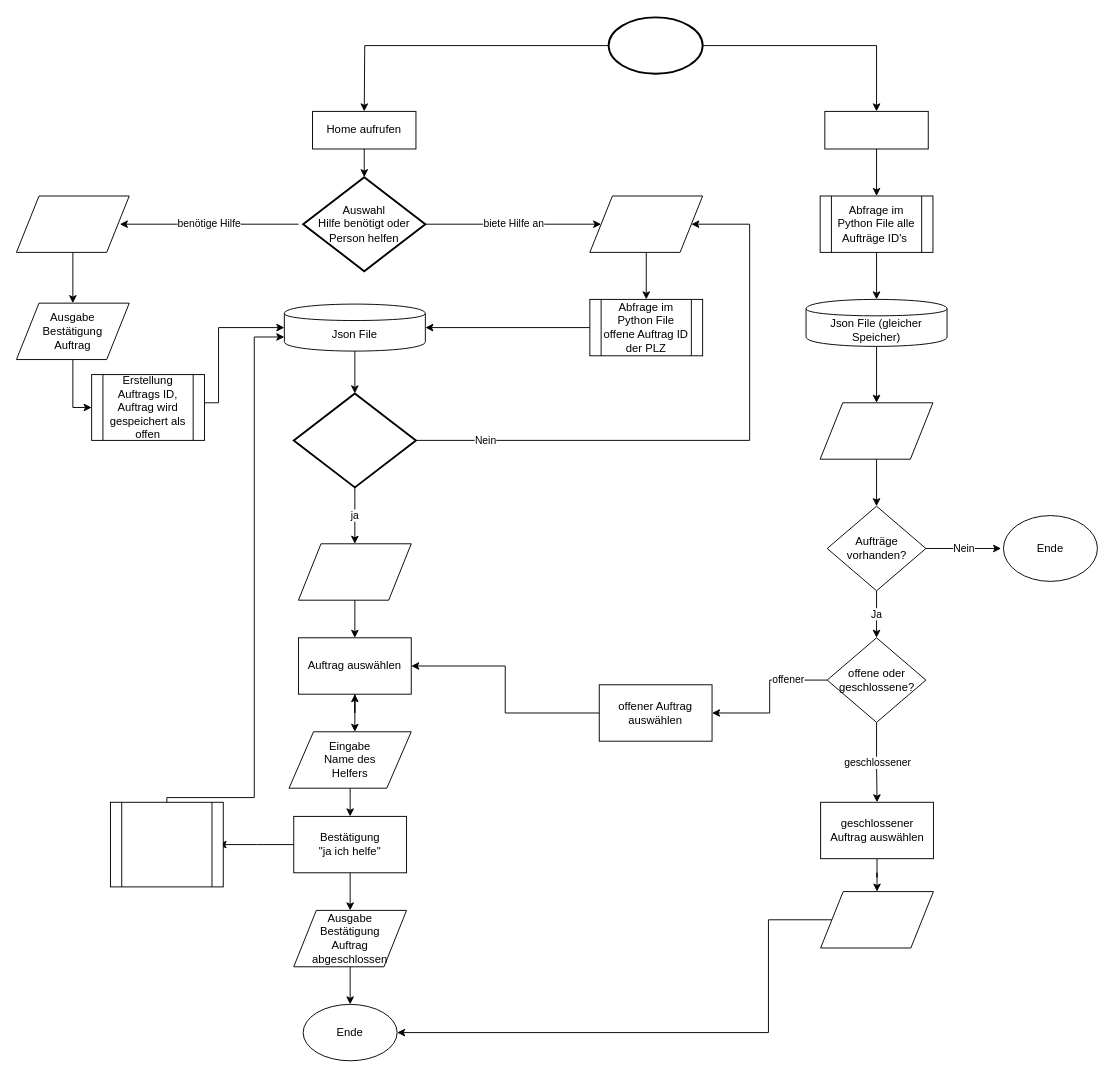
This 1114x1077 diagram has some shape labels left out. Here are the shapes that lost their labels. From the top down, the box of each, then its label:
(607, 16, 703, 74): Start
(824, 110, 928, 149): Übersicht aufrufen
(16, 195, 129, 252): Hilfe Formular ausfüllen
(589, 195, 703, 252): PLZ eingeben
(292, 392, 416, 488): offene Aufträge vorhanden?
(819, 402, 933, 459): Ausgabe der Aufträge als Tabelle
(298, 543, 411, 600): Aufräge werden aufgelistet
(110, 801, 223, 887): Auftrags ID in Json File wird geändert auf geschlossen, Name Helfer gespeichert
(820, 891, 933, 948): Ausgabe Anzeige wer Auftrag erledigt hat
